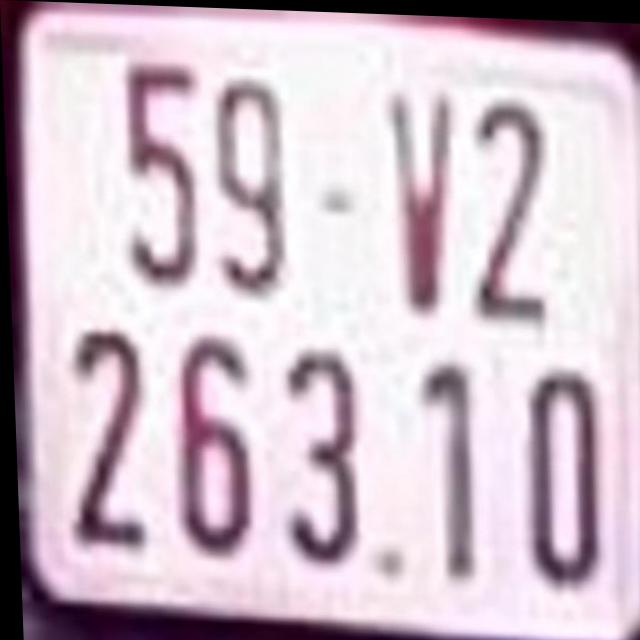0: (526, 364, 601, 583)
1: (420, 350, 478, 570)
2: (65, 324, 149, 556), (470, 92, 553, 324)
3: (282, 340, 356, 559)
5: (123, 52, 200, 285)
6: (176, 327, 250, 559)
9: (212, 75, 289, 297)
V: (380, 82, 451, 312)
